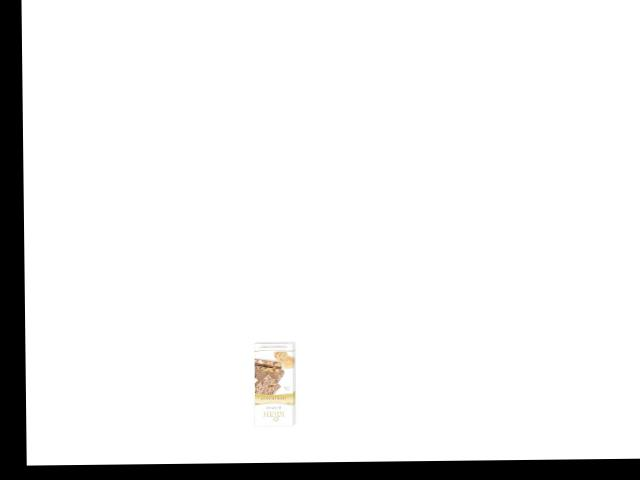chocolate: (252, 339, 298, 429)
